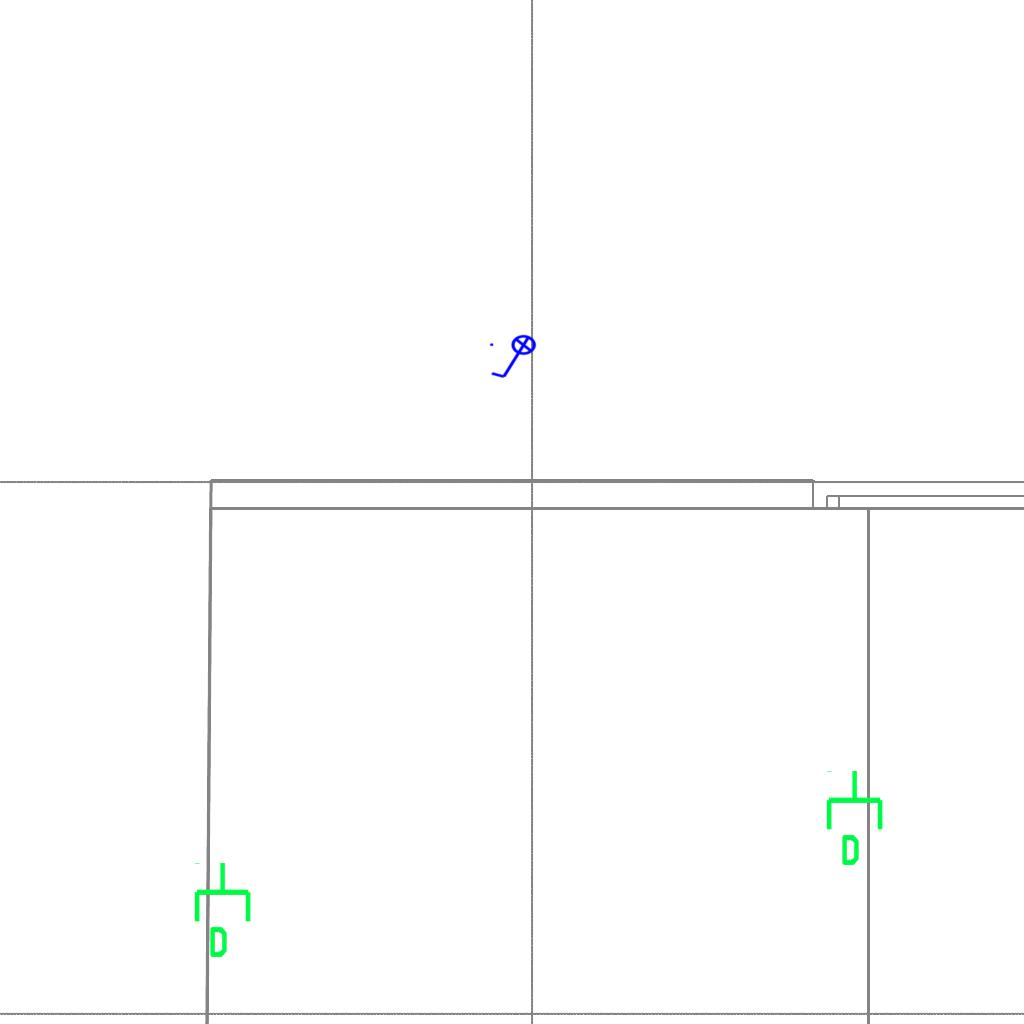Ausschalter_beleuchtet: (487, 334, 543, 382)
Datenanschluss_einfach: (822, 768, 891, 868), (190, 860, 259, 960)
